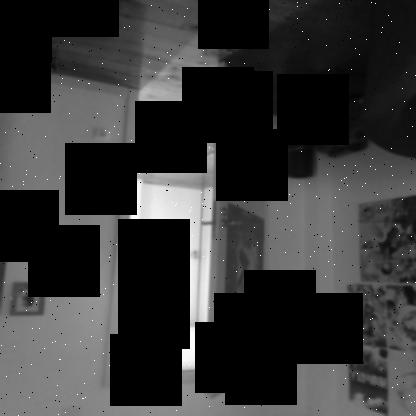Porte: (101, 57, 272, 400)
